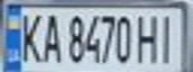0: (115, 11, 136, 64)
4: (81, 11, 103, 64)
7: (100, 11, 118, 64)
8: (63, 11, 84, 64)
A: (39, 10, 63, 63)
H: (133, 11, 163, 64)
I: (154, 10, 181, 64)
K: (15, 9, 45, 63)
